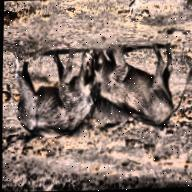boar: (86, 44, 192, 132), (5, 48, 99, 142)
